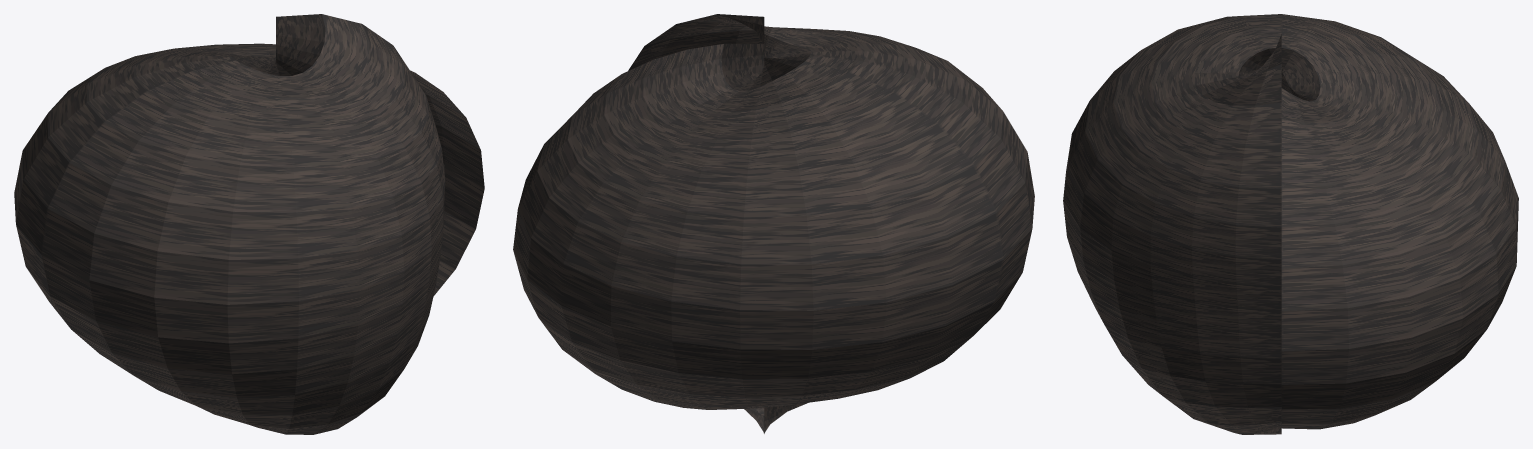
Rendered from rock_lava.glb.
3 views of the same model, side by side, from view 1: azimuth 30°, elevation 25°; view 2: azimuth 150°, elevation 25°; view 3: azimuth 270°, elevation 25° (orthographic). The views are drawn at different scales.
Visible parts, largest first — view 1: rock_lava; view 2: rock_lava; view 3: rock_lava.
Boxes of the visible parts, x1,y1,x2,y2 form: rock_lava: (14,14,484,434); rock_lava: (513,14,1034,433); rock_lava: (1063,14,1518,434).
Bounding box in the file's own units: 1.14 × 1.01 × 1.04.
Materials: 1 (1 with a texture image).
